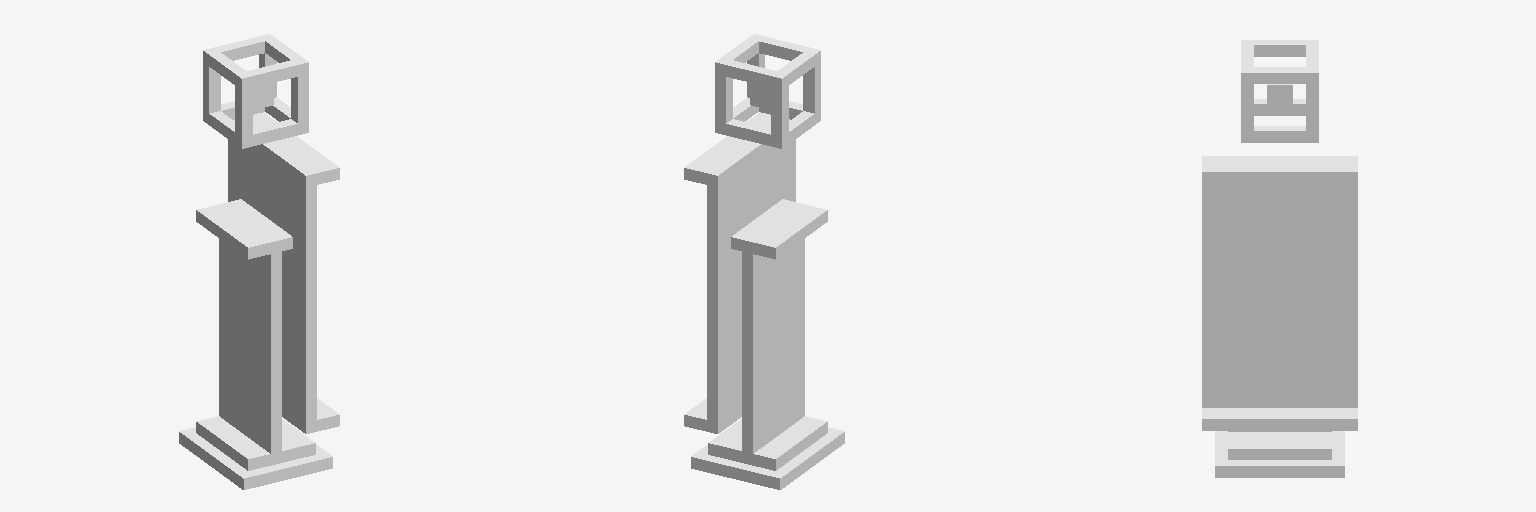
The model's file is itemWithModel.obj.
3 renders of one model, left to right at view 1: azimuth 30°, elevation 25°; view 2: azimuth 150°, elevation 25°; view 3: azimuth 270°, elevation 25°, orthographic.
Parts seen in each view (by area): view 1: object 1; view 2: object 1; view 3: object 1.
Part boxes in pixels (left/top/right/bottom): object 1: left=179, top=34, right=339, bottom=489; object 1: left=684, top=34, right=844, bottom=489; object 1: left=1202, top=40, right=1357, bottom=477.
Size of the model in its own units: 0.8 by 3.4 by 1.2.